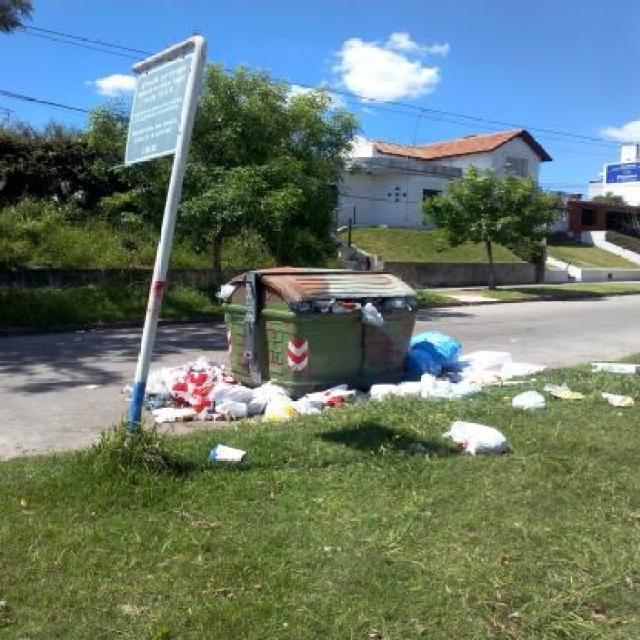garbage: (111, 356, 305, 430), (386, 323, 544, 378), (299, 371, 443, 412), (441, 411, 506, 455), (206, 445, 252, 462)
